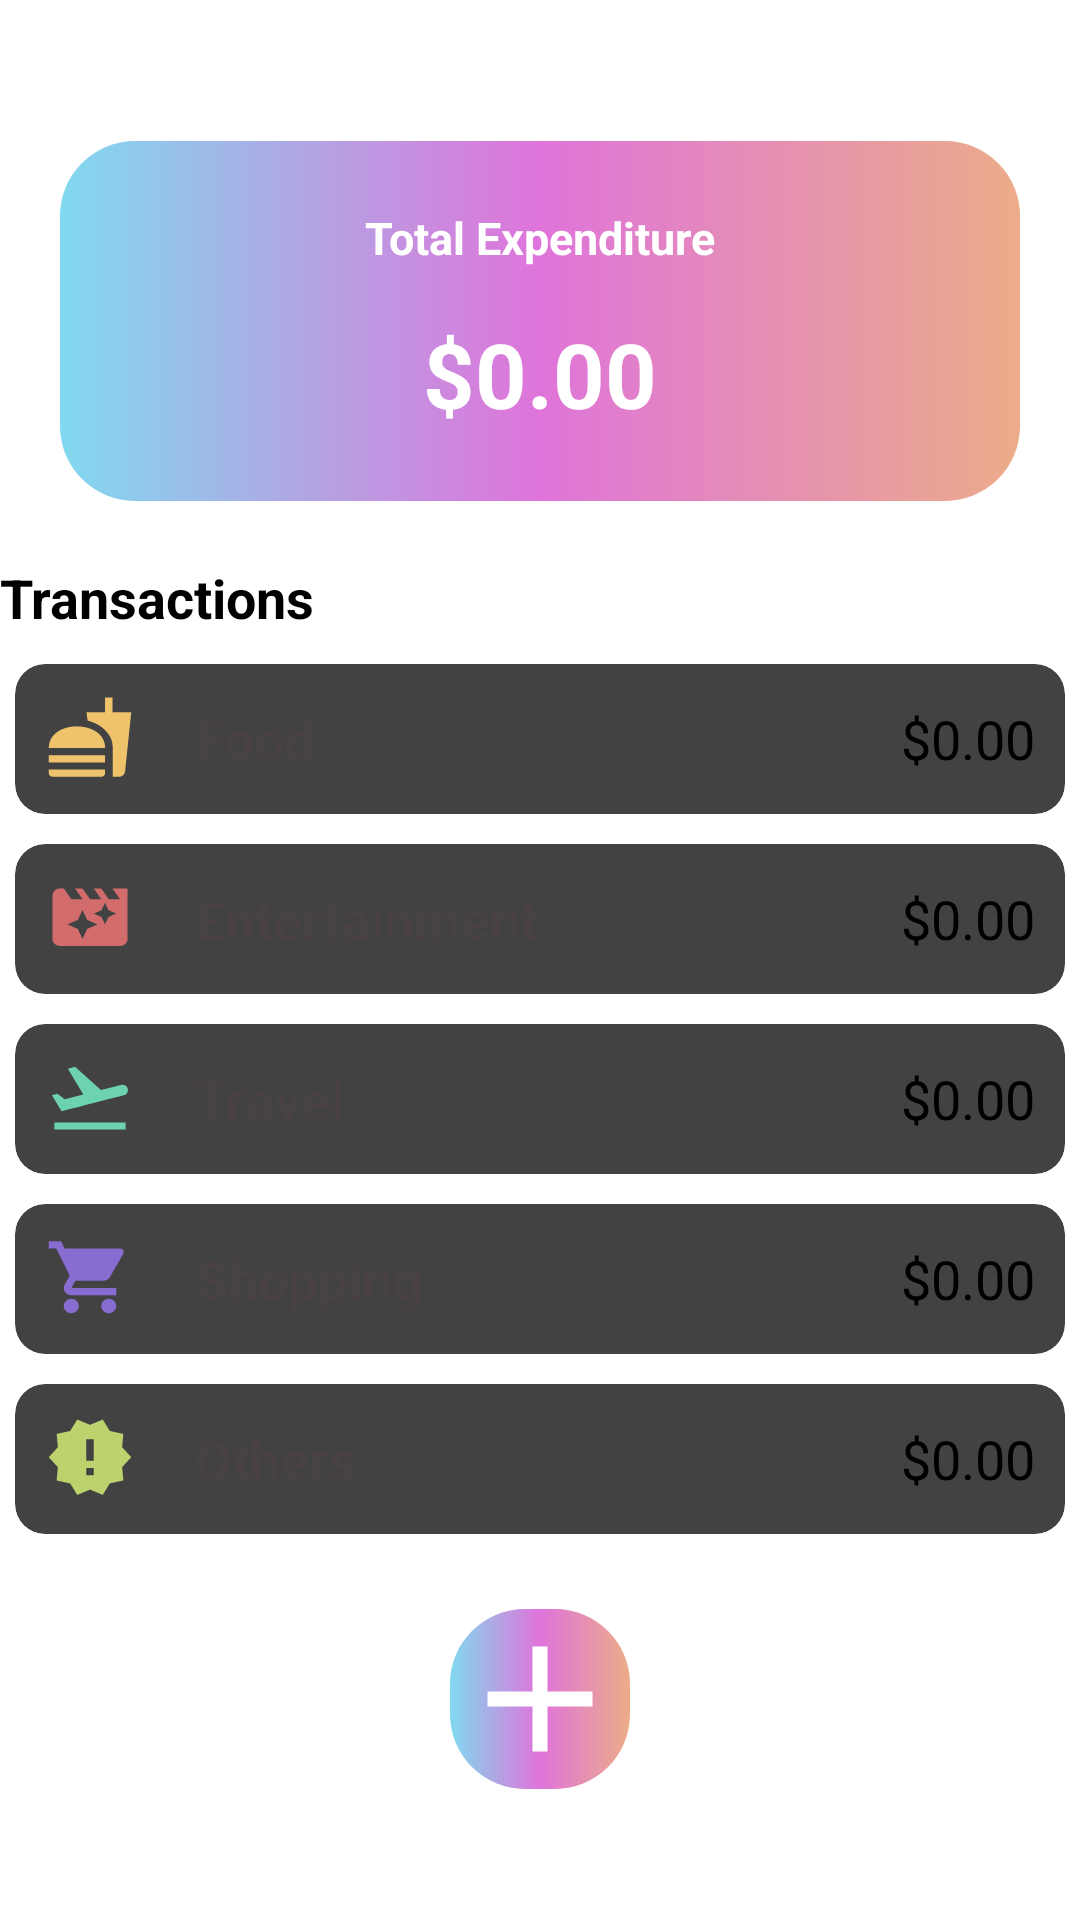

Screen size 1080*1920. Icon name, then its center in pixels as point (x, y):
add: point (540, 1699)
flight takeoff: point (90, 1098)
movie filter: point (90, 917)
releases: point (90, 1457)
